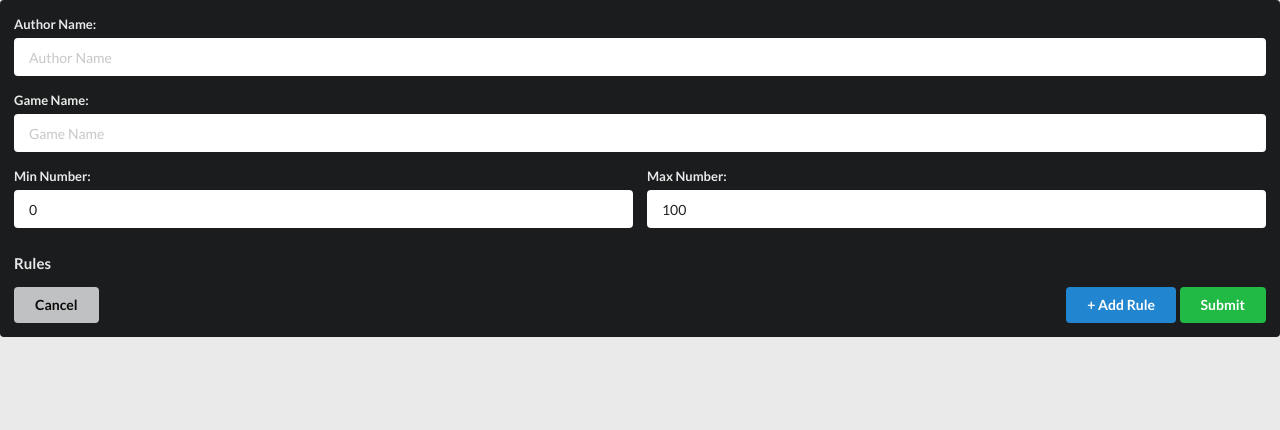
GameForm › Adds and Removes rules
Click the button "+ Add Rule" at (1121,305), box [1066,287,1176,323]
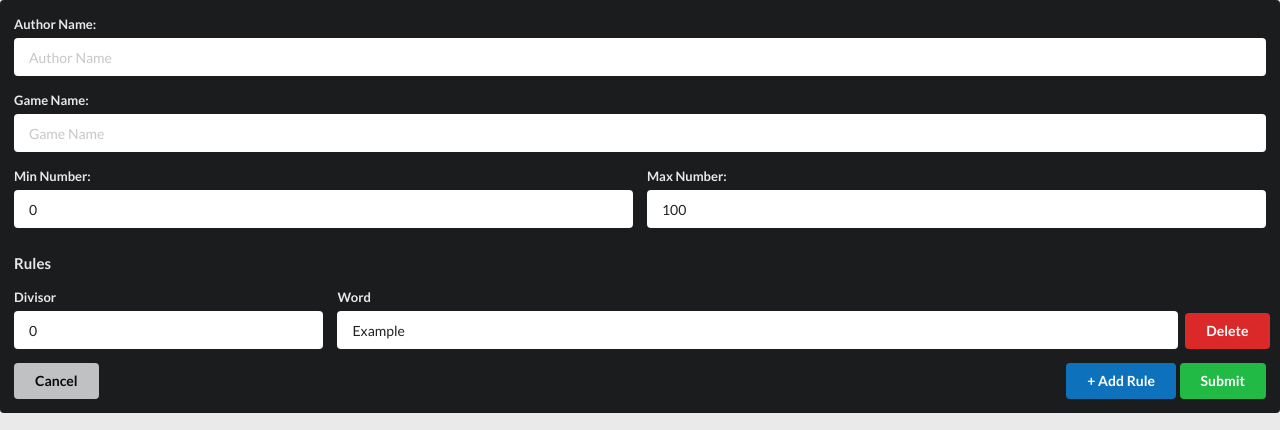
Expected: the number field with placeholder "Divisor" below "Divisor" is shown
Expected: the field with placeholder "Word" is shown, [338,311,1178,349]
Type "5" into the number field with placeholder "Divisor" below "Divisor" at (169,330), box [14,311,324,349]
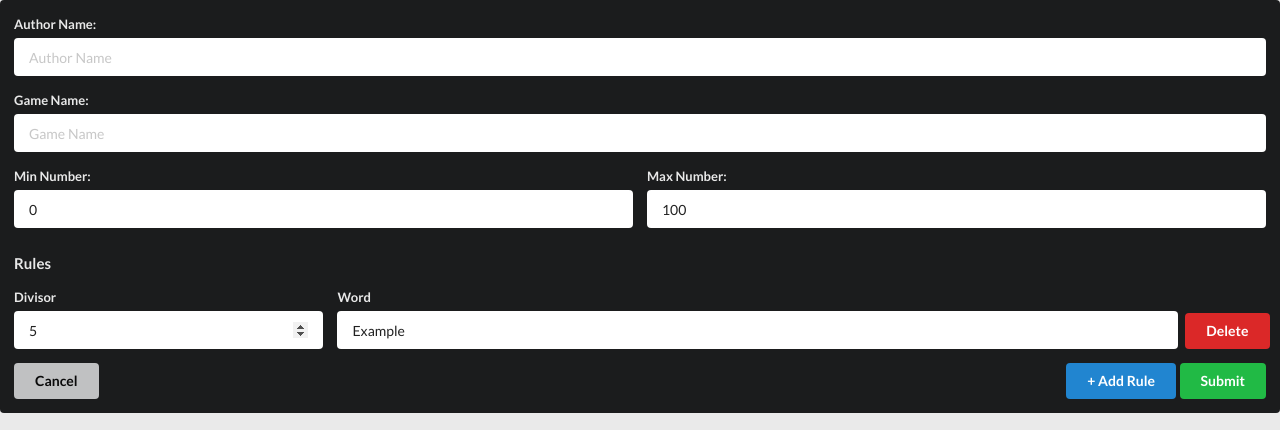
Type "buzz" into the field with placeholder "Word" at (758,330), box [338,311,1178,349]
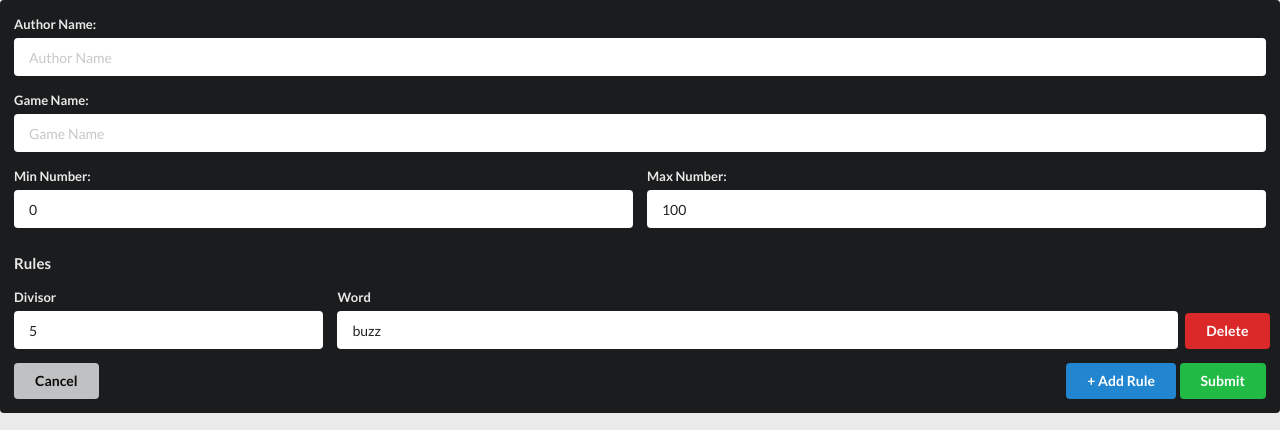
Click the button "Delete" at (1227,331), box [1185,313,1270,349]
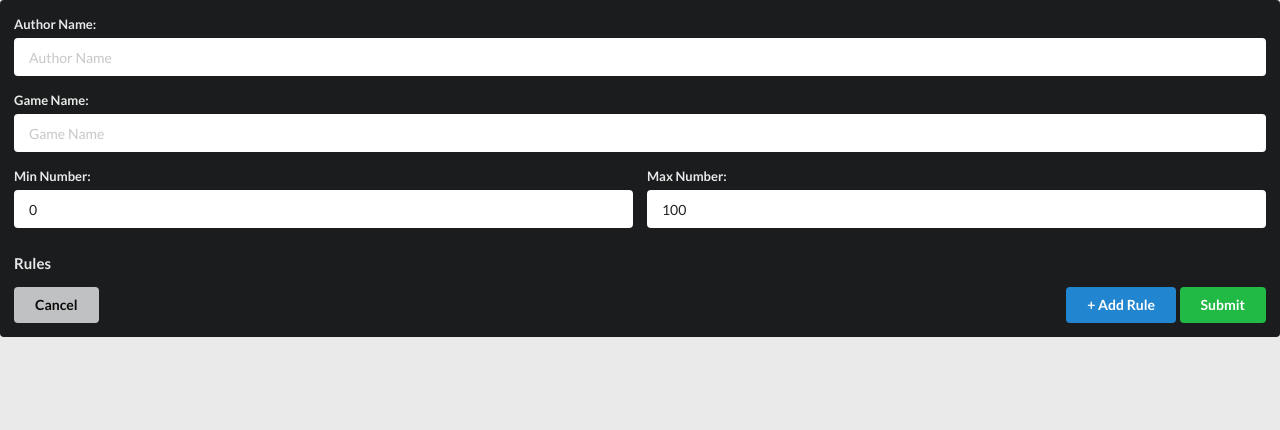
Expected: the label with placeholder "Divisor" is gone
Expected: the label with placeholder "Word" is gone
